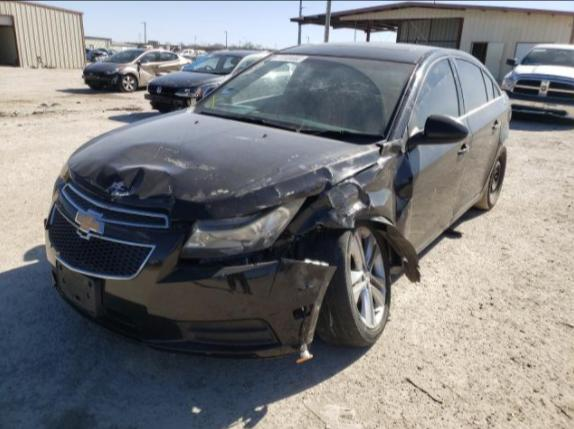Broken part: (43, 174, 352, 362), (270, 138, 420, 286), (295, 219, 392, 346), (69, 168, 279, 221), (500, 92, 512, 151)
Dent: (169, 147, 379, 221), (65, 140, 192, 214), (393, 152, 415, 225)
Flaking: (298, 153, 360, 174), (180, 187, 231, 203), (165, 157, 215, 169), (105, 180, 133, 201), (153, 146, 180, 158), (195, 172, 227, 181), (233, 135, 266, 143), (354, 148, 379, 158), (252, 182, 276, 190), (321, 169, 334, 182), (233, 190, 250, 198), (287, 153, 299, 163), (232, 211, 249, 218), (283, 190, 295, 197), (274, 187, 282, 197), (165, 185, 173, 195), (256, 204, 272, 208), (205, 204, 212, 210), (263, 177, 273, 181), (247, 178, 254, 183)
